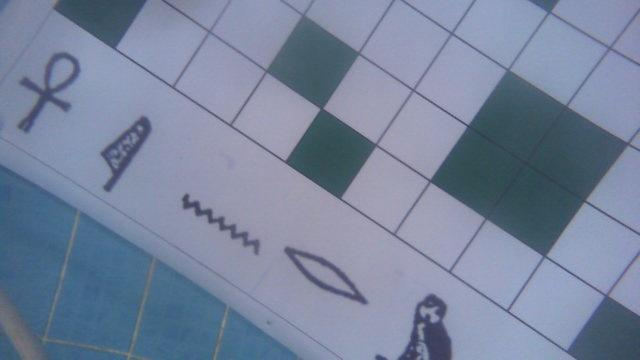Ankh: (13, 51, 84, 138)
Mouth: (281, 241, 368, 313)
Owl: (375, 288, 459, 360)
Reed: (97, 112, 155, 197)
Water: (176, 187, 265, 259)
